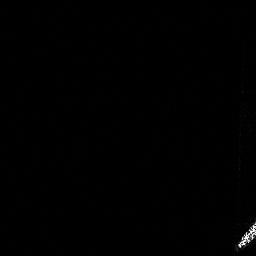ship: (235, 218, 256, 251)
